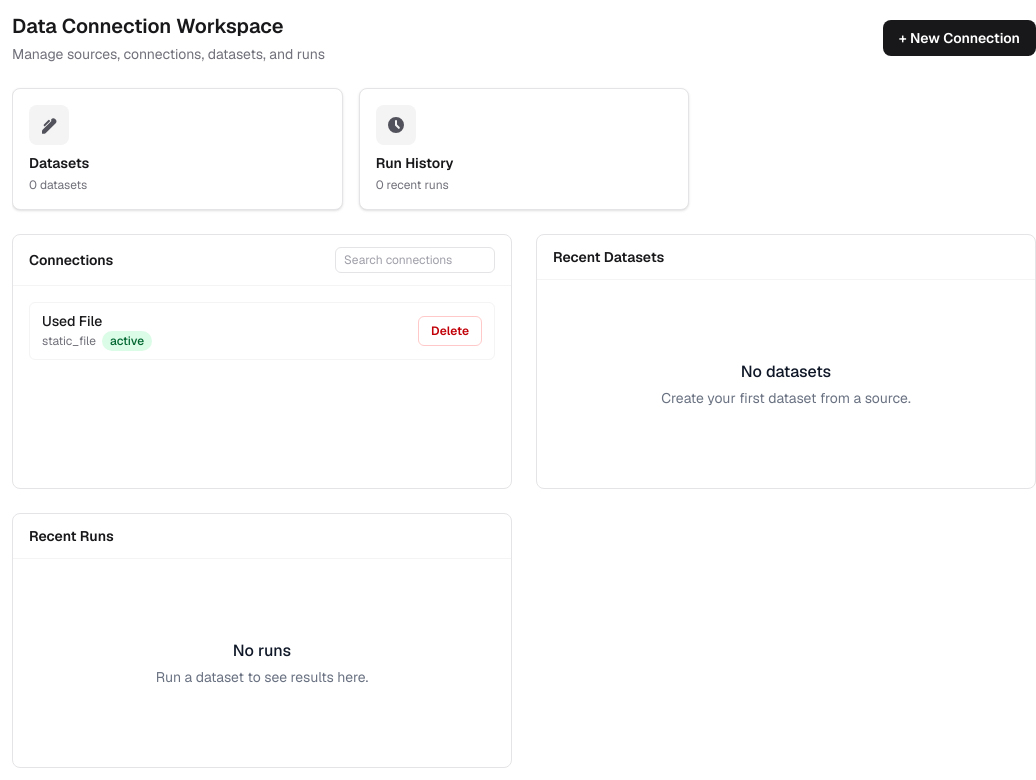
Test: Connections home › blocks delete when the connection still has dependencies
The image size is (1036, 780).
expect the text "Used File" is shown: met, box [42,312,102,330]
Click the button "Delete": point(450, 331) [418,316,482,346]
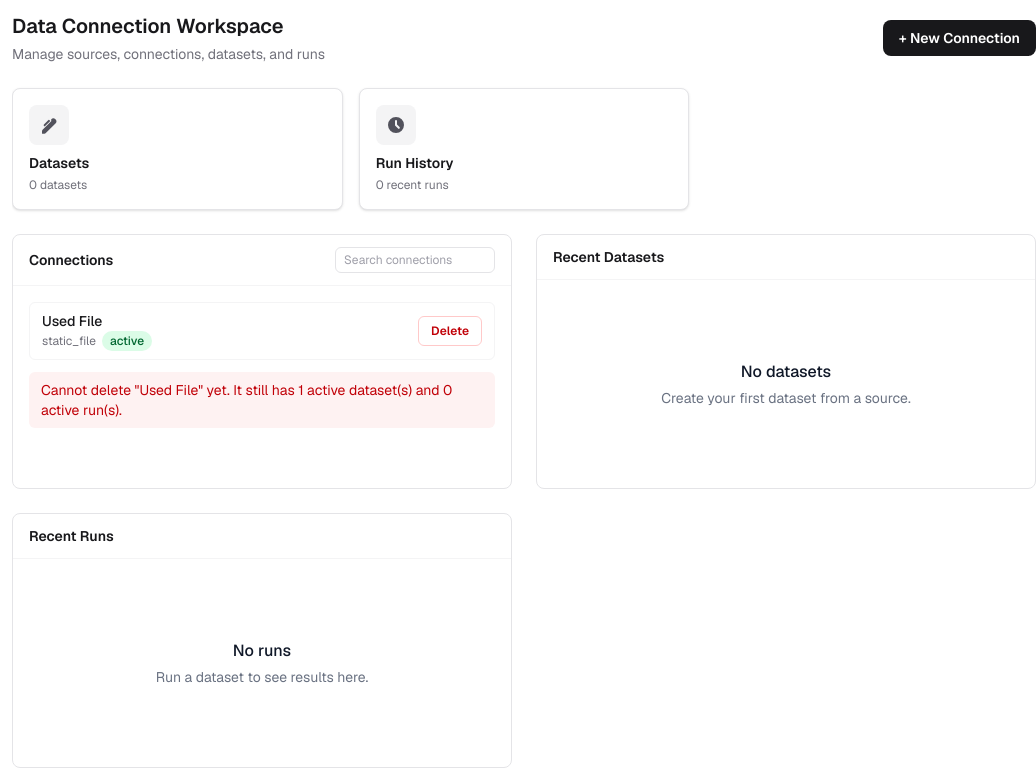
expect the text "Cannot delete \"Used File\" yet" is shown: met, box [41,381,452,419]
